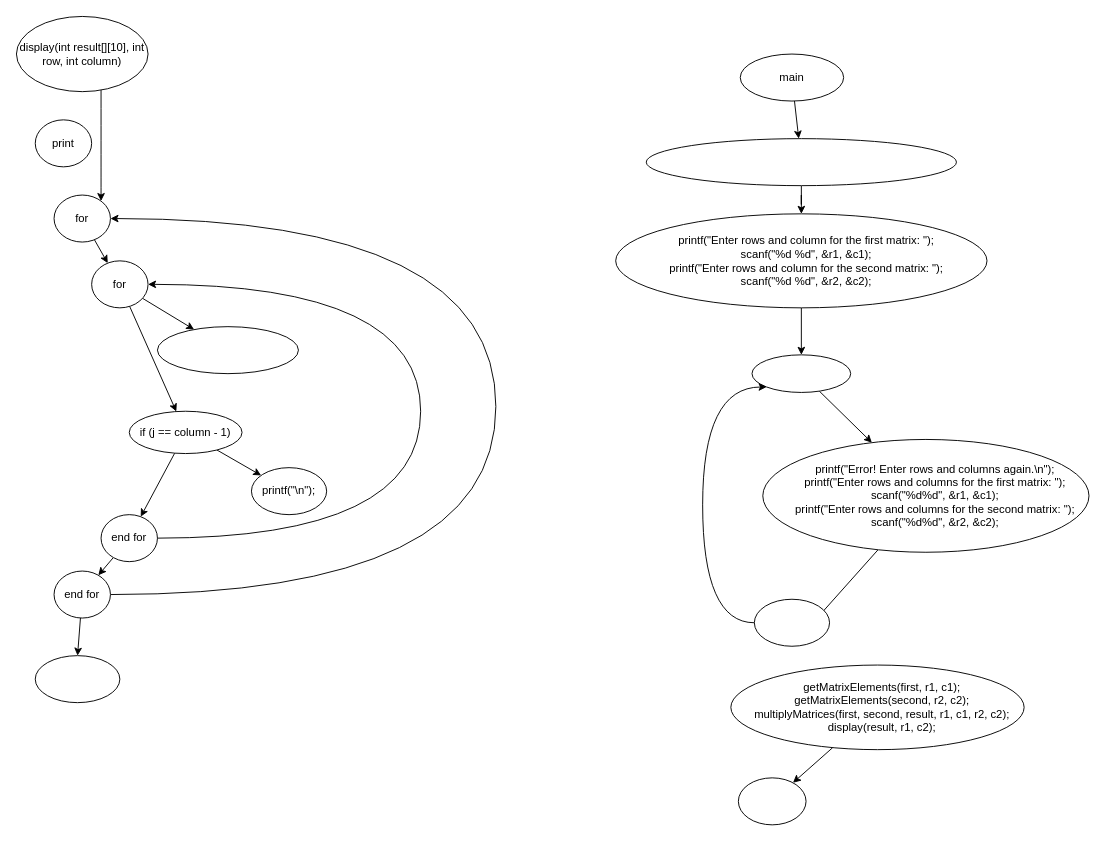
This 1105x841 diagram has some shape labels left out. Each missing label, with the box of its shape:
end display: (34, 655, 120, 703)
end main: (737, 777, 806, 825)
end while: (753, 598, 830, 646)
int first[10][10], second[10][10], result[10][10], r1, c1, r2, c2;: (645, 138, 956, 186)
printf("%d ", result[i][j]);: (157, 326, 298, 374)
while (c1 != r2): (751, 354, 851, 392)
